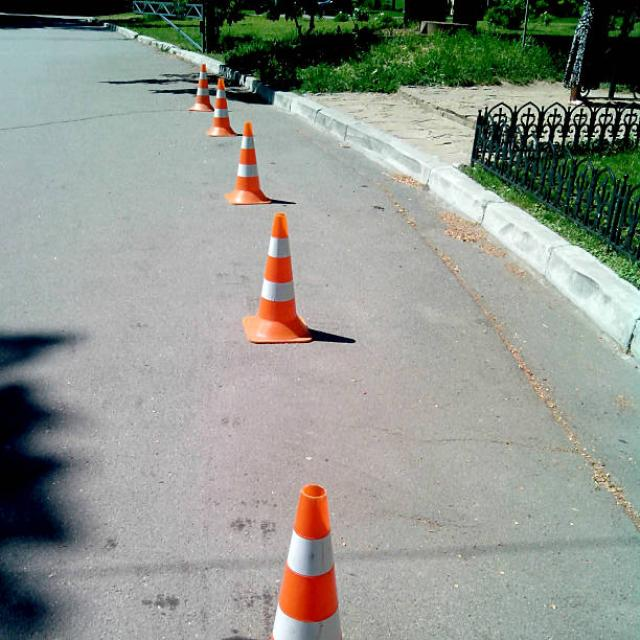Traffic Cone: (244, 456, 371, 640), (234, 200, 331, 358), (220, 113, 270, 211), (200, 70, 240, 144)
